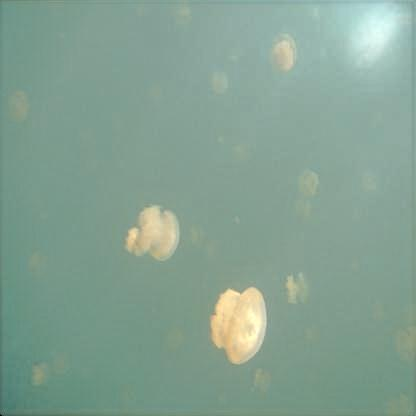Handstand: (209, 289, 269, 363), (140, 209, 179, 265), (273, 33, 299, 77), (285, 271, 310, 305), (125, 230, 151, 258), (50, 347, 74, 377), (298, 169, 321, 200), (10, 90, 31, 120), (396, 332, 416, 362), (27, 252, 47, 280), (31, 361, 51, 388), (165, 329, 189, 349), (253, 368, 272, 393), (211, 75, 227, 94), (218, 393, 234, 409), (374, 305, 388, 321)
LightHouse: (188, 223, 204, 247)
